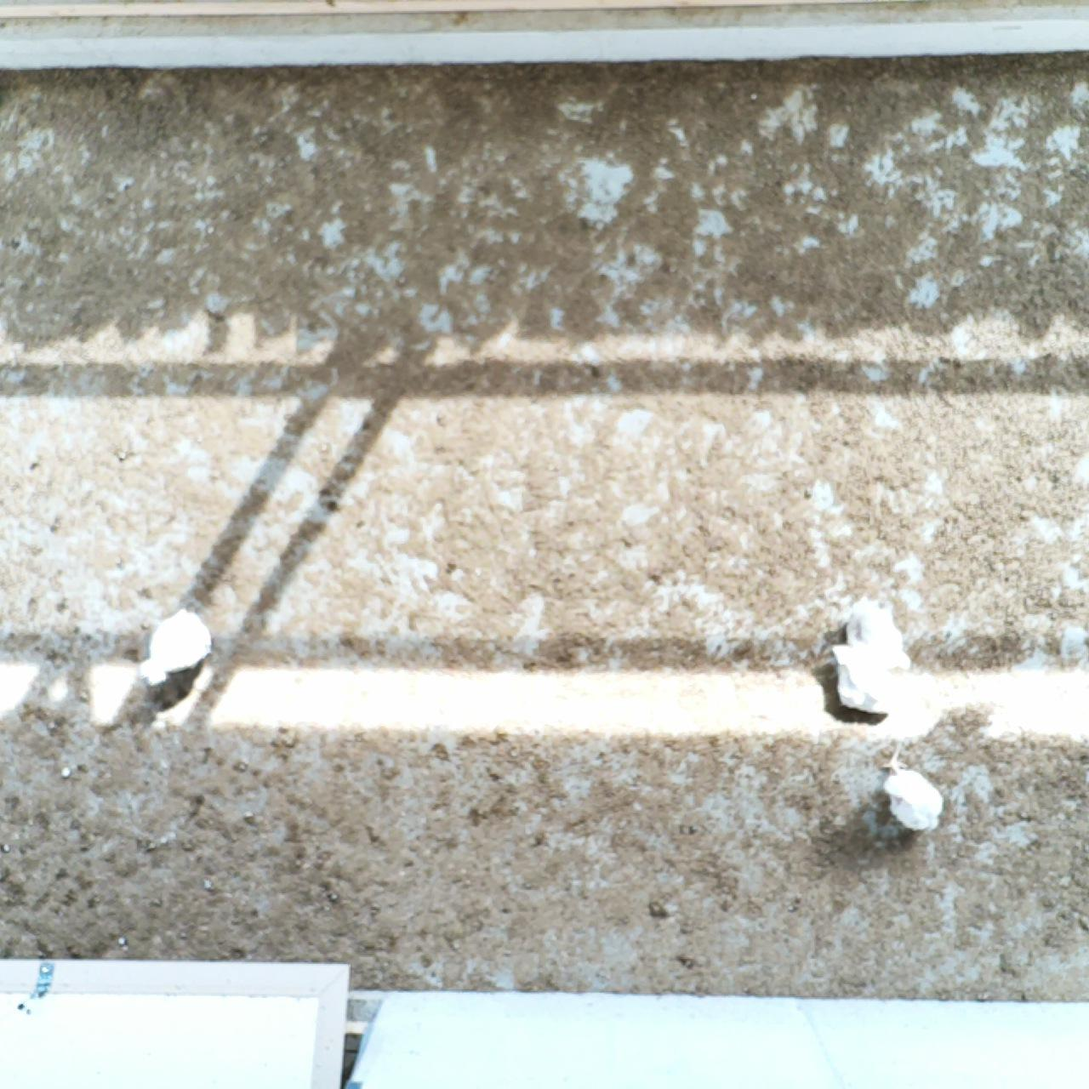chicken: (132, 602, 215, 692), (877, 740, 948, 840), (827, 640, 907, 727), (842, 590, 919, 674)
